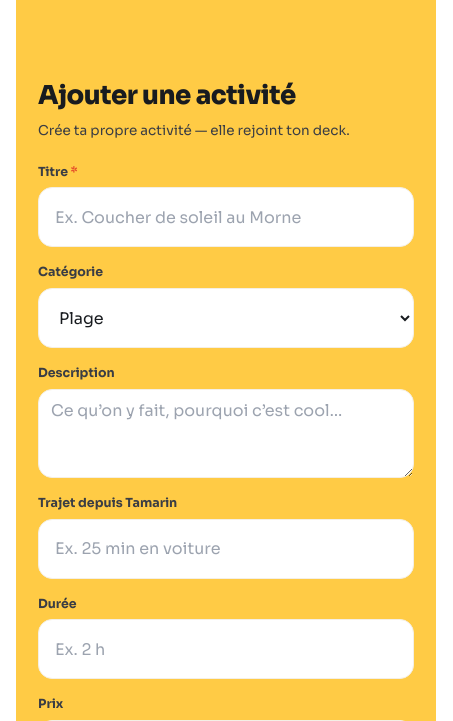
Test case: AddActivityScreen › disables submit until a title is entered
The image size is (453, 721).
Type "Rando du Morne" into the field labelled "Titre" at (226,217), box [38,187,414,247]
(page scrolled)
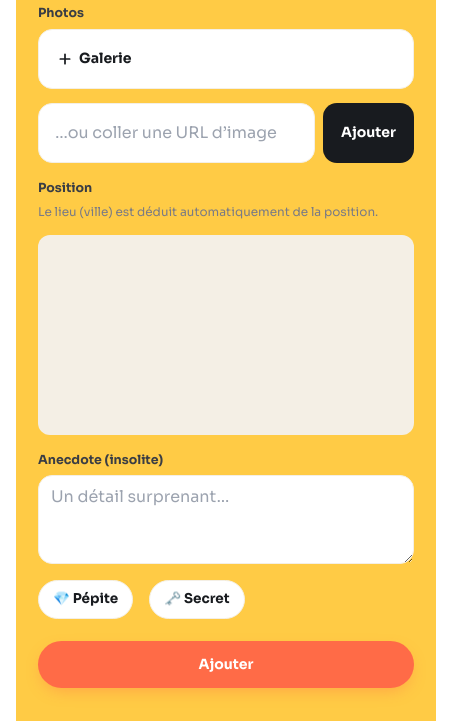
Now the button with aria-label "ajouter l’activité" is enabled, box [38,641,414,688]
